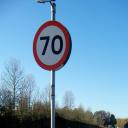speed_limit_70: (33, 22, 70, 69)
